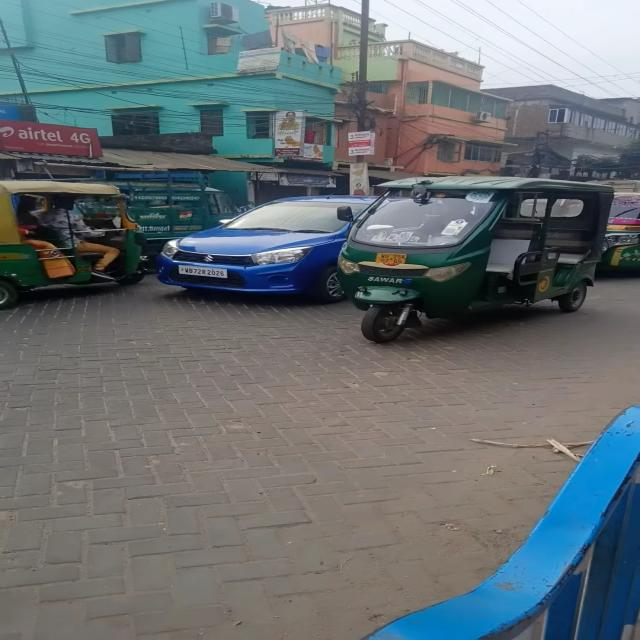Toto: (313, 148, 639, 350)
